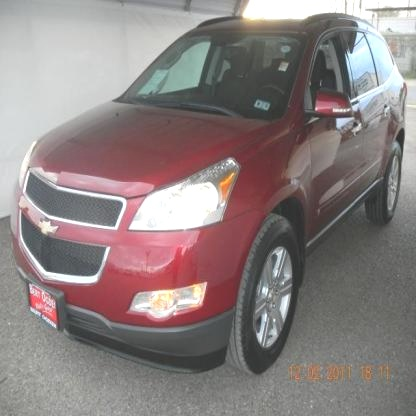Vehicle: (10, 15, 413, 381)
